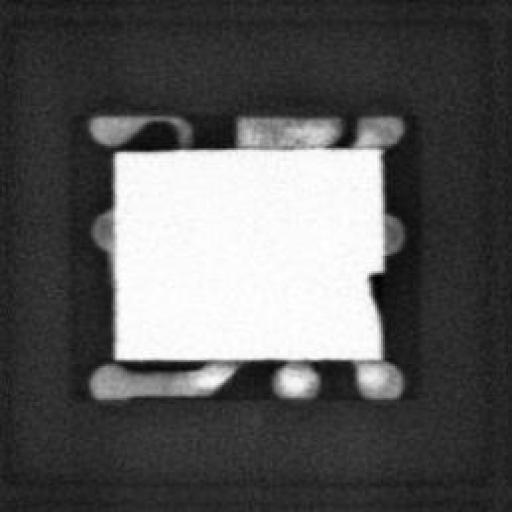DIE_BROKEN: (361, 266, 385, 309)
